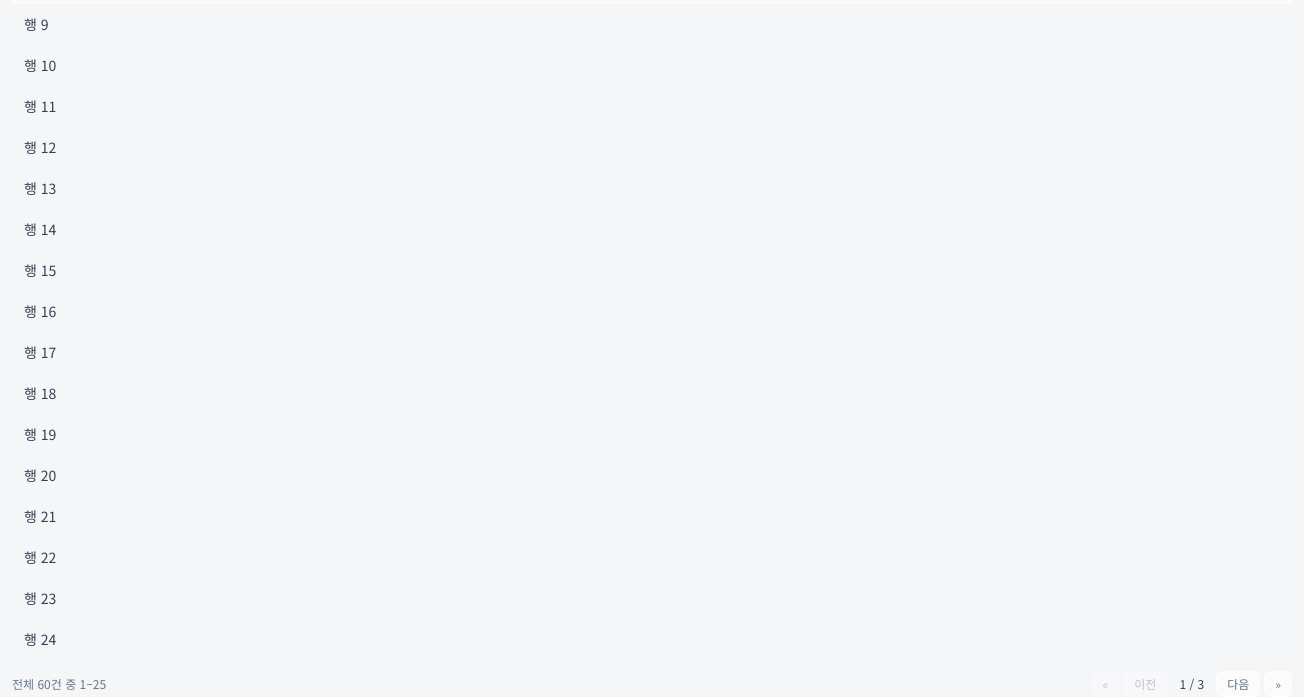
Test: DataTable — 대량 데이터 페이지네이션 › advances to the next page
(page scrolled)
Click the button with aria-label "다음 페이지": point(1238, 684) left=1216, top=671, right=1260, bottom=696
(page scrolled)
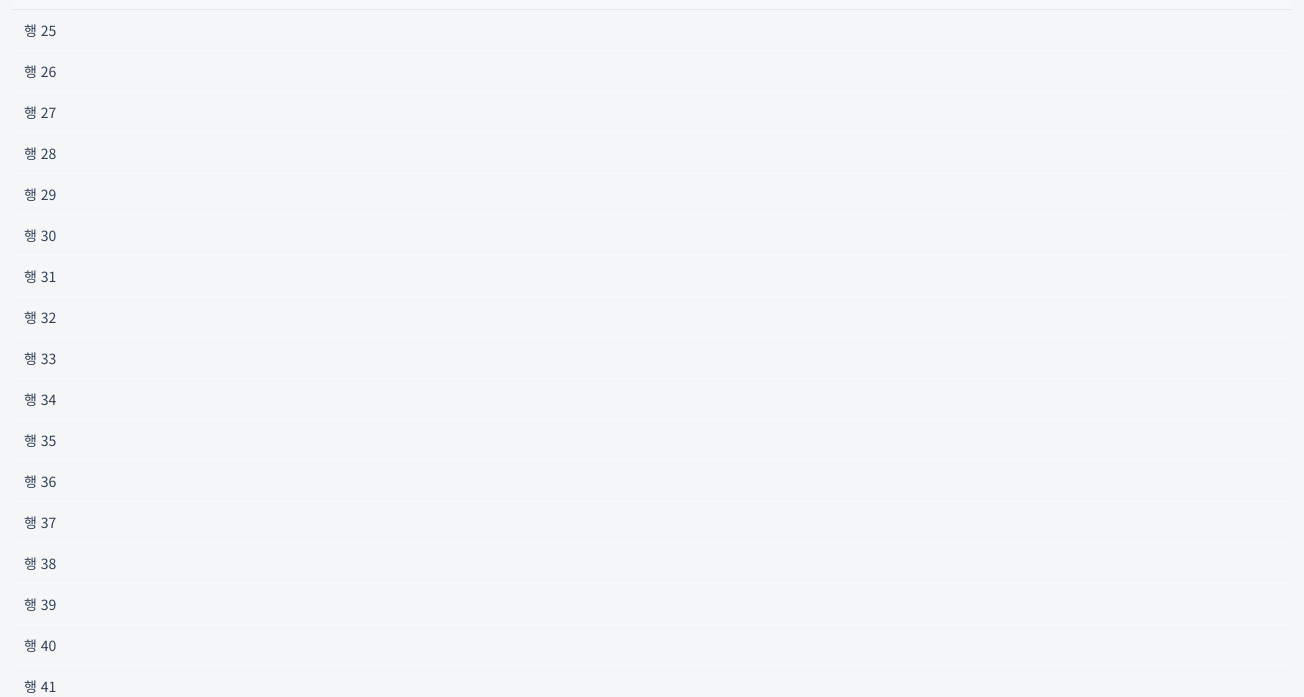
Expected: the text "행 25" is shown, left=12, top=10, right=1292, bottom=50
